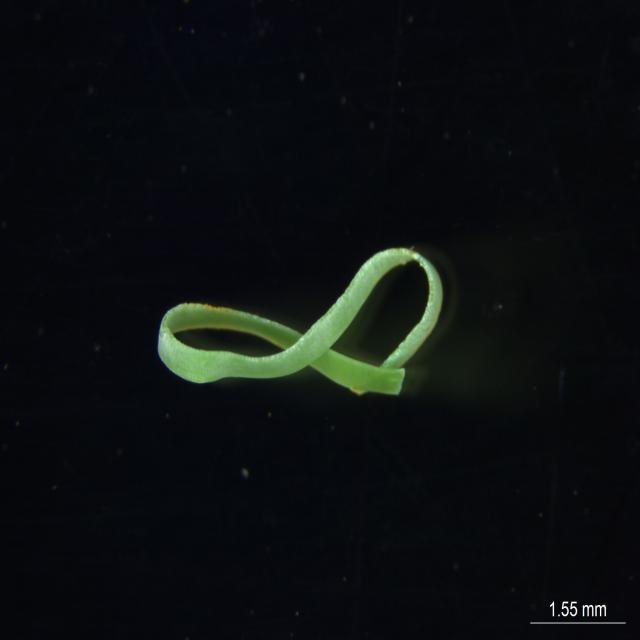fibers: (148, 237, 467, 449)
